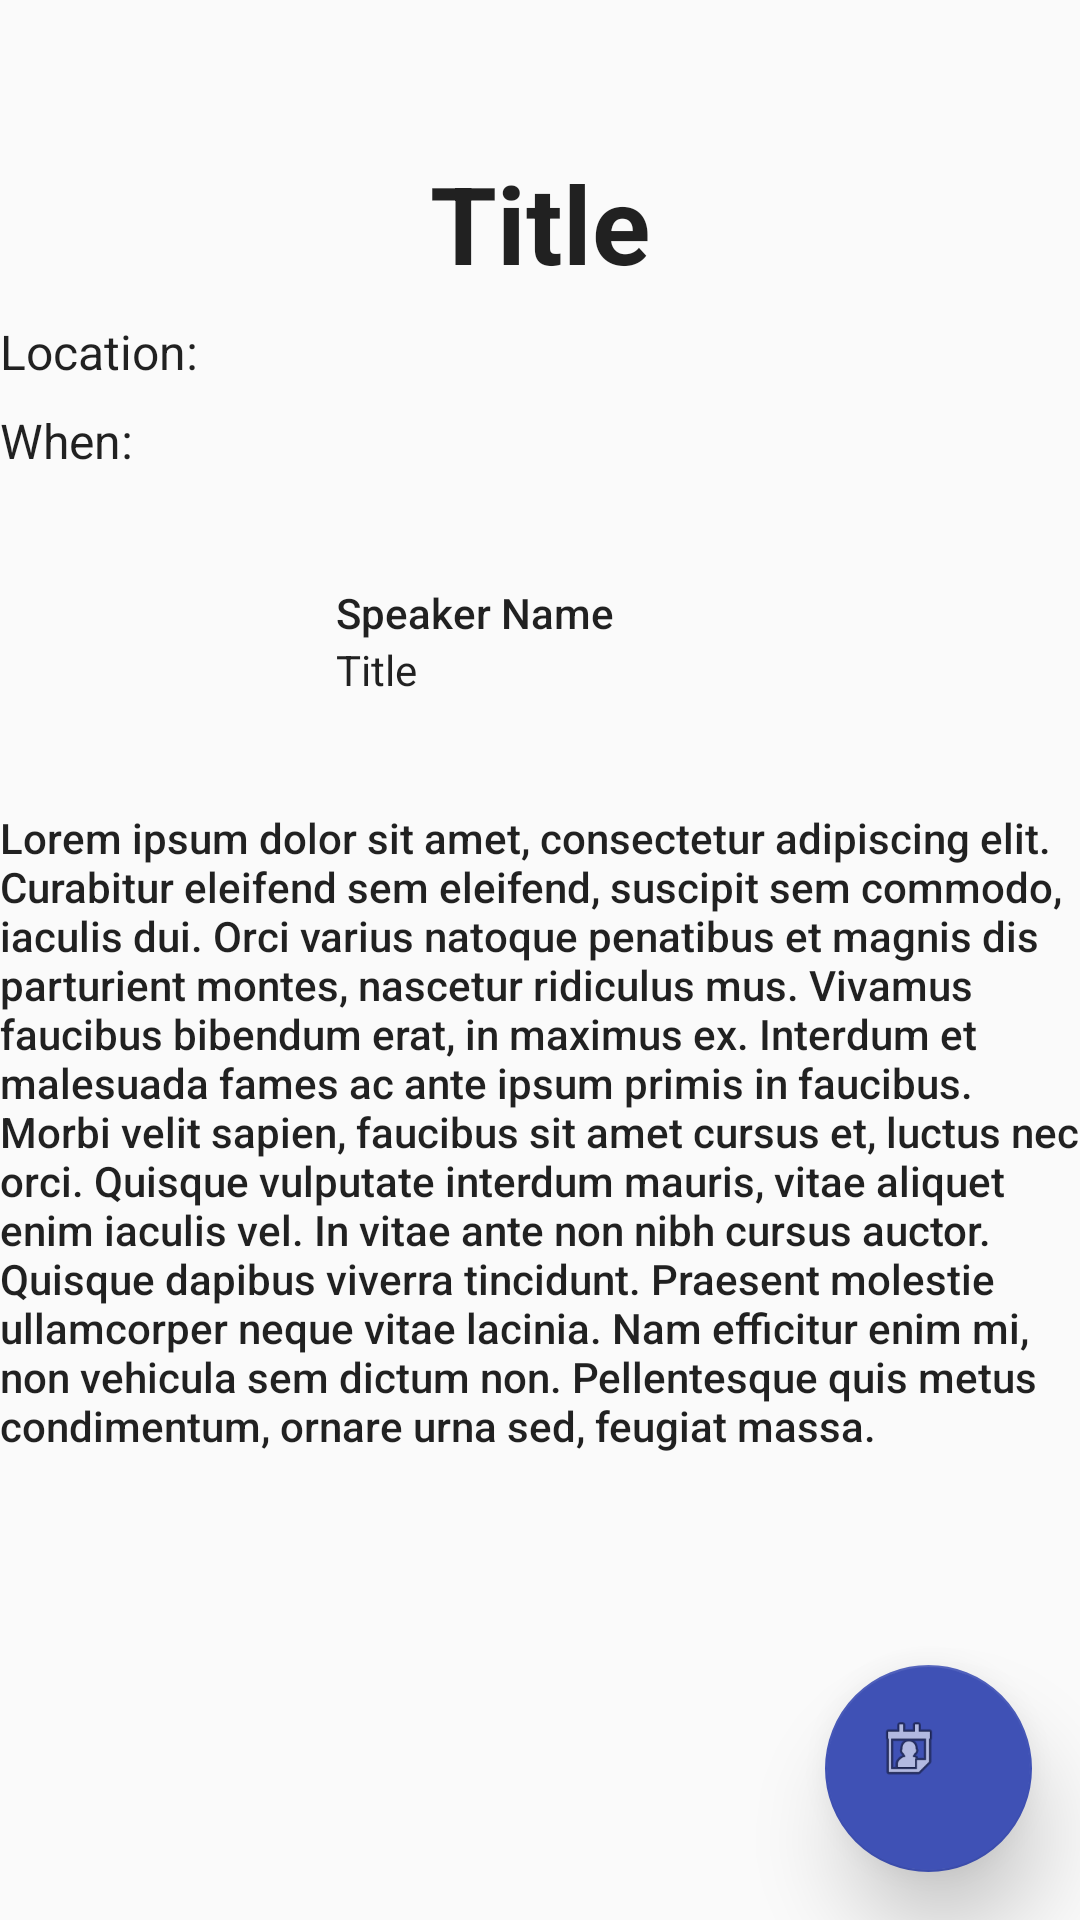

Locate icon controls on the screen. Image size 1080 × 1920, boxes as rect(x1, y1, x2, y2).
calendar: rect(825, 1665, 1032, 1872)
